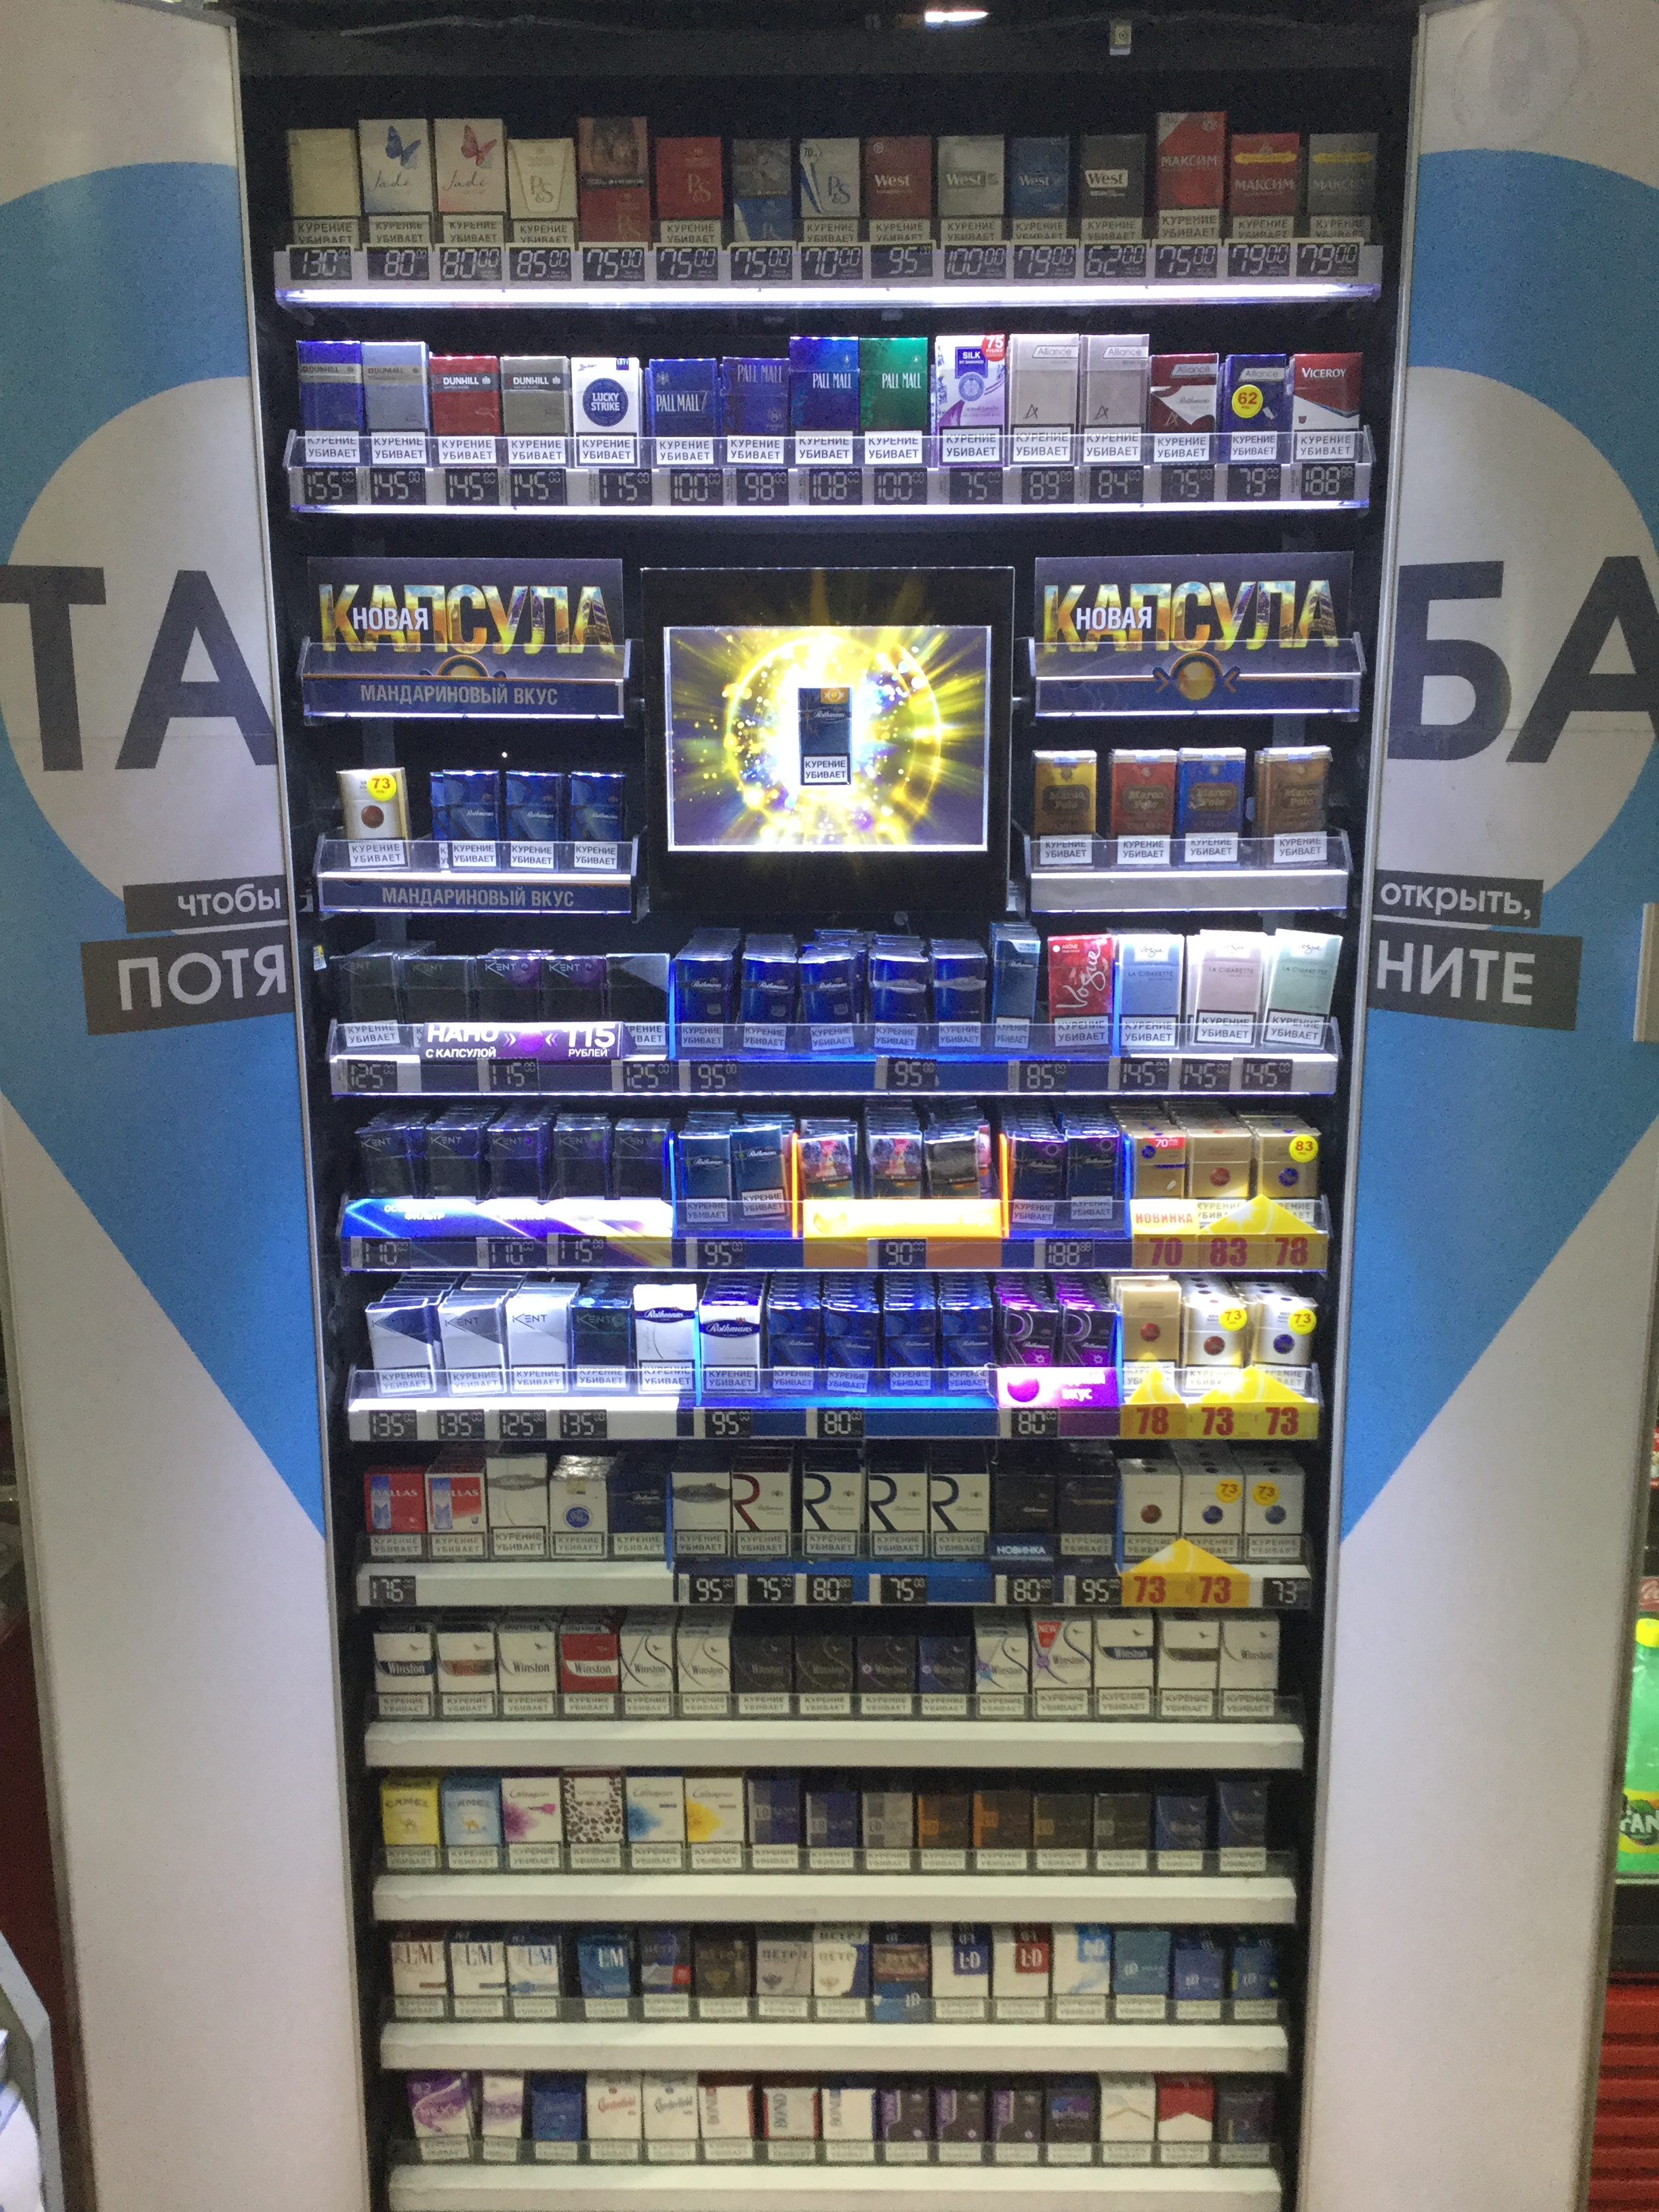alliance: (1006, 331, 1080, 472), (1082, 331, 1148, 472), (1147, 350, 1216, 469), (1222, 350, 1284, 465)
bond: (695, 2080, 755, 2168), (878, 2078, 936, 2168), (763, 2078, 819, 2170), (934, 2081, 988, 2175), (817, 2081, 877, 2167), (985, 2083, 1039, 2172)
camel: (441, 1777, 502, 1881), (380, 1775, 439, 1878)
chesterfield: (640, 2071, 704, 2170), (589, 2073, 641, 2168)
dallas: (359, 1460, 427, 1562), (423, 1470, 491, 1561)
dunhil: (498, 354, 575, 472), (359, 338, 429, 463), (432, 348, 500, 465), (296, 340, 357, 462)
jade: (357, 113, 436, 254), (430, 110, 507, 251)
java: (335, 766, 411, 873), (1114, 1273, 1180, 1393), (1253, 1127, 1321, 1231), (1253, 1298, 1314, 1404), (1119, 1467, 1183, 1564), (1190, 1127, 1251, 1230), (549, 1468, 610, 1568), (1129, 1132, 1188, 1233), (1183, 1470, 1244, 1566), (1187, 1301, 1246, 1397), (1244, 1468, 1305, 1561)
kent: (434, 1294, 512, 1404), (399, 951, 474, 1062), (472, 953, 540, 1068), (605, 948, 669, 1062), (333, 953, 399, 1064), (547, 951, 608, 1071), (568, 1296, 638, 1399), (366, 1298, 434, 1400), (512, 1291, 572, 1402), (610, 1118, 673, 1221), (552, 1122, 617, 1217), (350, 1125, 413, 1221), (484, 1122, 544, 1221), (422, 1122, 481, 1217)
ld: (870, 1926, 934, 2031), (929, 1925, 992, 2029), (1053, 1925, 1112, 2031), (971, 1785, 1033, 1883), (992, 1926, 1053, 2026), (744, 1775, 802, 1878), (1112, 1925, 1164, 2034), (1094, 1787, 1154, 1881), (1171, 1935, 1229, 2029), (859, 1782, 915, 1878), (1033, 1791, 1093, 1879), (1229, 1935, 1283, 2031), (803, 1787, 859, 1874), (917, 1791, 969, 1879)
lm: (505, 1935, 565, 2026), (387, 1937, 450, 2022), (455, 1932, 509, 2024), (577, 1933, 631, 2017)
luckystrike: (568, 352, 645, 474)
marlboro: (1040, 2074, 1100, 2179), (1098, 2071, 1159, 2168), (1154, 2074, 1213, 2172)
maxim: (1155, 106, 1229, 251), (1302, 122, 1378, 247), (1229, 129, 1304, 247)
next: (404, 2069, 474, 2168), (479, 2071, 526, 2172)
pack: (281, 122, 361, 263), (1255, 745, 1333, 855), (1105, 752, 1180, 852), (1176, 745, 1249, 846), (1206, 2071, 1277, 2172), (1032, 751, 1101, 850), (680, 1771, 746, 1871), (500, 1775, 565, 1876), (565, 1771, 626, 1876), (626, 1773, 688, 1872), (1060, 1470, 1119, 1573), (530, 2073, 584, 2163)
pallmall: (788, 333, 861, 465), (645, 354, 721, 474), (859, 336, 929, 465), (720, 354, 791, 477)
petrpervii: (755, 1933, 816, 2029), (636, 1932, 699, 2022), (812, 1925, 870, 2022), (697, 1933, 751, 2022)
ps: (573, 113, 653, 251), (504, 125, 584, 254), (650, 127, 730, 254), (723, 131, 798, 247), (796, 132, 864, 254)
rothmans: (631, 1280, 697, 1399), (429, 766, 500, 874), (802, 956, 866, 1071), (863, 1465, 929, 1571), (486, 1451, 551, 1557), (568, 766, 629, 876), (728, 1467, 795, 1568), (800, 1467, 866, 1568), (927, 1470, 992, 1571), (868, 951, 927, 1061), (993, 1470, 1058, 1569), (880, 1301, 941, 1406), (608, 1463, 669, 1568), (505, 766, 563, 876), (821, 1296, 878, 1404), (795, 685, 854, 789), (992, 928, 1040, 1054), (699, 1298, 762, 1395), (674, 958, 734, 1061), (936, 1301, 995, 1404), (997, 1301, 1061, 1395), (767, 1291, 821, 1402), (739, 953, 796, 1057), (929, 953, 986, 1057), (735, 1127, 793, 1230), (673, 1465, 730, 1568), (1054, 1303, 1117, 1397), (1066, 1130, 1122, 1233), (796, 1134, 863, 1219), (1007, 1136, 1068, 1228), (929, 1130, 988, 1224), (676, 1132, 735, 1223), (870, 1130, 924, 1216)
silk: (931, 334, 1009, 470)
viceroy: (1295, 350, 1361, 467)
vogue: (1263, 925, 1344, 1059), (1192, 930, 1269, 1061), (1046, 934, 1119, 1061), (1112, 930, 1180, 1061)
west: (929, 129, 1009, 249), (857, 131, 936, 253), (1072, 134, 1143, 251), (1009, 132, 1068, 251)
winston: (1152, 1616, 1223, 1728), (1211, 1771, 1276, 1879), (1220, 1613, 1281, 1726), (432, 1627, 498, 1730), (558, 1622, 622, 1724), (1094, 1613, 1155, 1721), (728, 1627, 796, 1723), (1032, 1616, 1093, 1723), (497, 1625, 558, 1730), (619, 1623, 680, 1726), (971, 1625, 1032, 1726), (369, 1627, 432, 1723), (857, 1632, 918, 1726), (791, 1630, 854, 1721), (674, 1625, 734, 1721), (915, 1630, 974, 1724), (1154, 1789, 1208, 1883)
